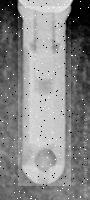Zimmer: (15, 6, 71, 186)
